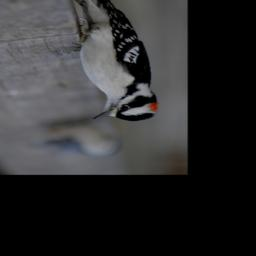Woodpecker: (66, 0, 168, 128)
